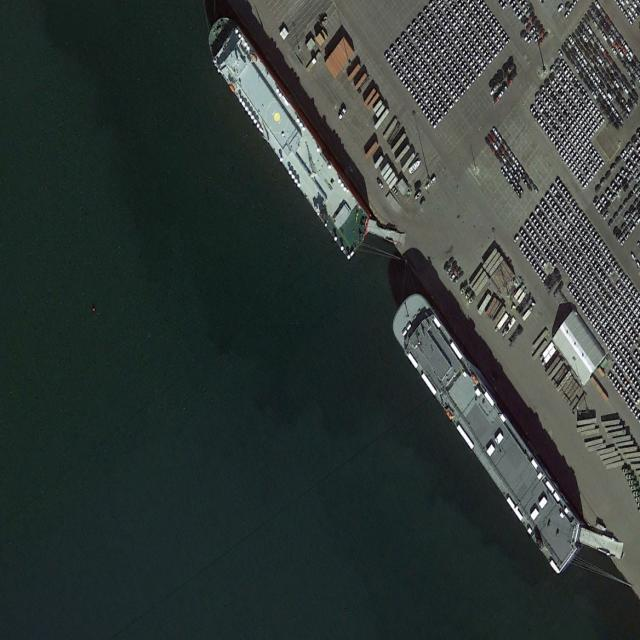RoRo: (385, 281, 591, 577), (198, 6, 376, 263)
